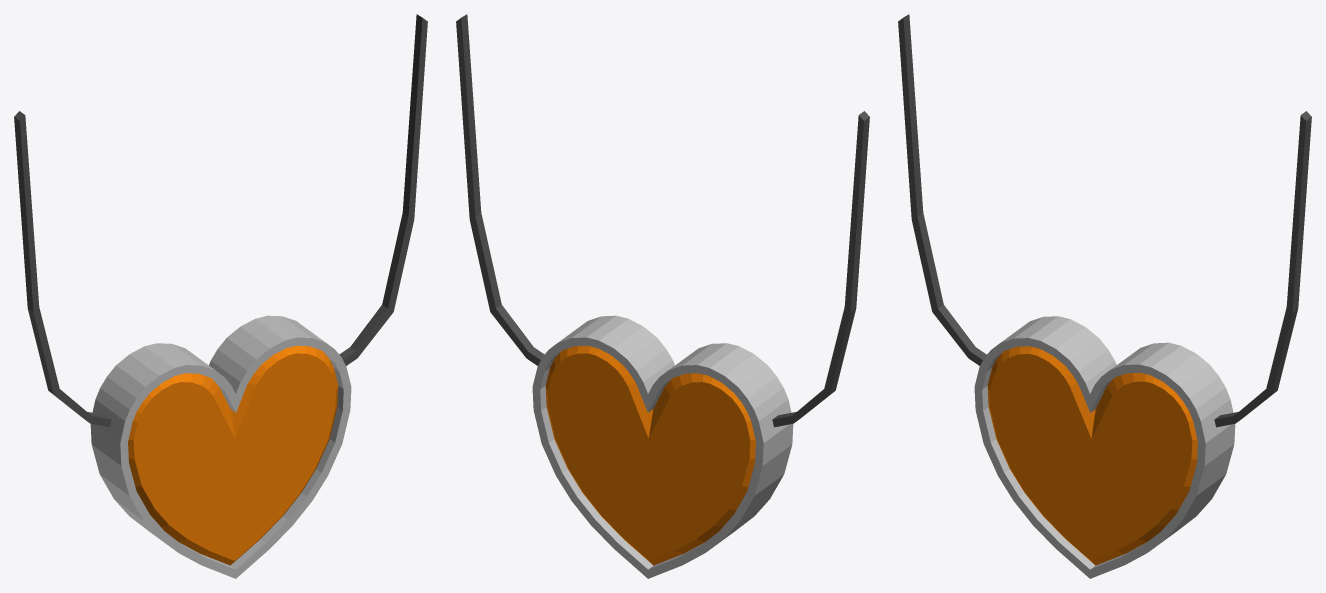
File: fire_pendant.glb
3 renders of one model, left to right at view 1: azimuth 30°, elevation 25°; view 2: azimuth 150°, elevation 25°; view 3: azimuth 330°, elevation 25°, orthographic.
Visible parts, largest first — view 1: FirePendant; view 2: FirePendant; view 3: FirePendant.
Boxes of the visible parts, box(x1,y1,x2,y2) form: FirePendant: box(14, 14, 427, 578); FirePendant: box(456, 14, 869, 578); FirePendant: box(898, 14, 1311, 578).
Size of the model in its own units: 0.7909 by 0.9327 by 0.1.
1 material, 1 textured.
